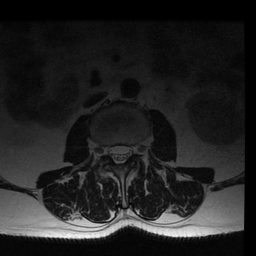CCS_normal: (116, 135, 123, 173)
LFS_normal: (132, 133, 140, 162)
LLS_normal: (123, 135, 132, 167)
RFS_normal: (98, 135, 107, 164)
RLS_normal: (107, 136, 116, 165)
